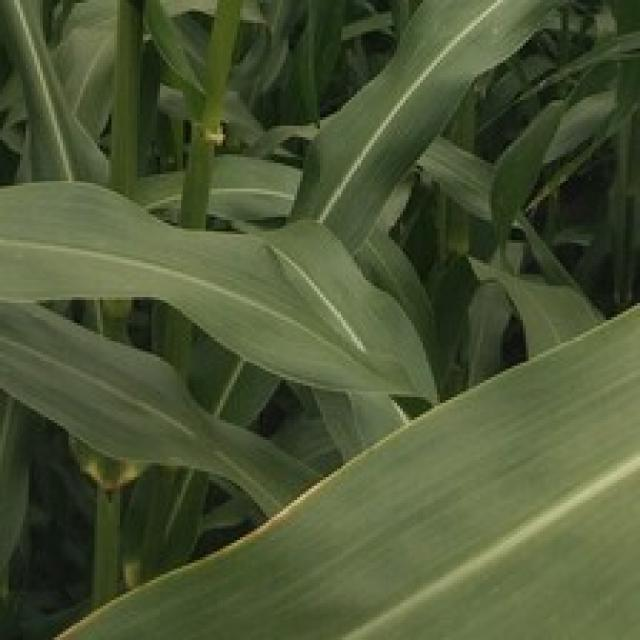Corn: (0, 0, 637, 637), (0, 174, 440, 406), (0, 292, 323, 517)
